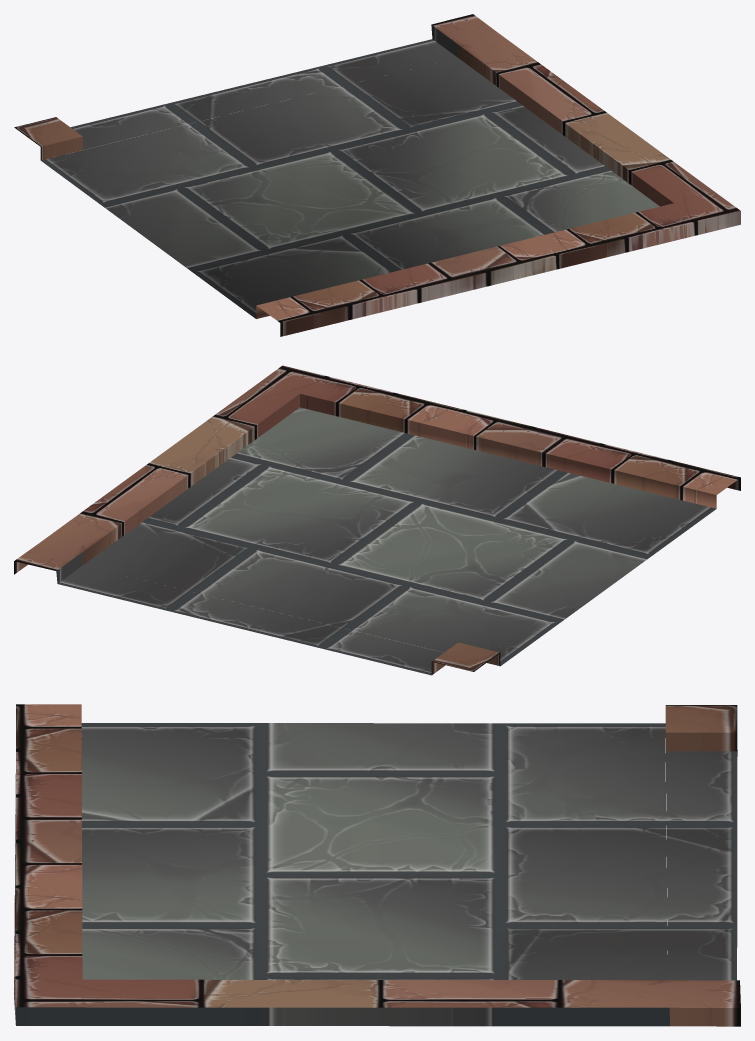
File: Right path extende 2r.fbx
3 views of the same model, one above another, from view 1: azimuth 30°, elevation 25°; view 2: azimuth 150°, elevation 25°; view 3: azimuth 270°, elevation 25° (orthographic). The views are drawn at different scales.
Parts seen in each view (by area): view 1: Right path extender 2; view 2: Right path extender 2; view 3: Right path extender 2.
Boxes of the visible parts, x1,y1,x2,y2 form: Right path extender 2: (14,14,740,336); Right path extender 2: (14,365,740,675); Right path extender 2: (14,704,740,1026).
Bounding box in the file's own units: 527 × 15 × 534.
2 materials, 2 textured.
